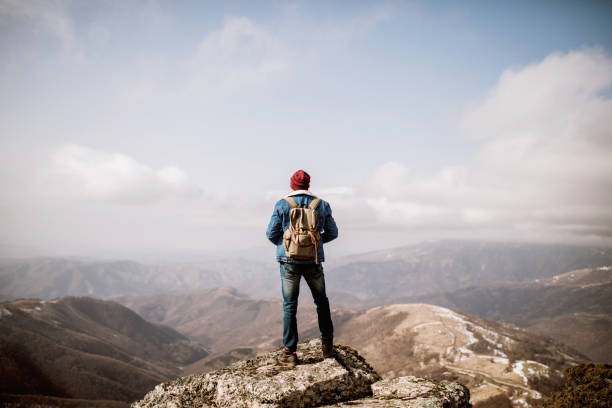person: (265, 168, 340, 365)
